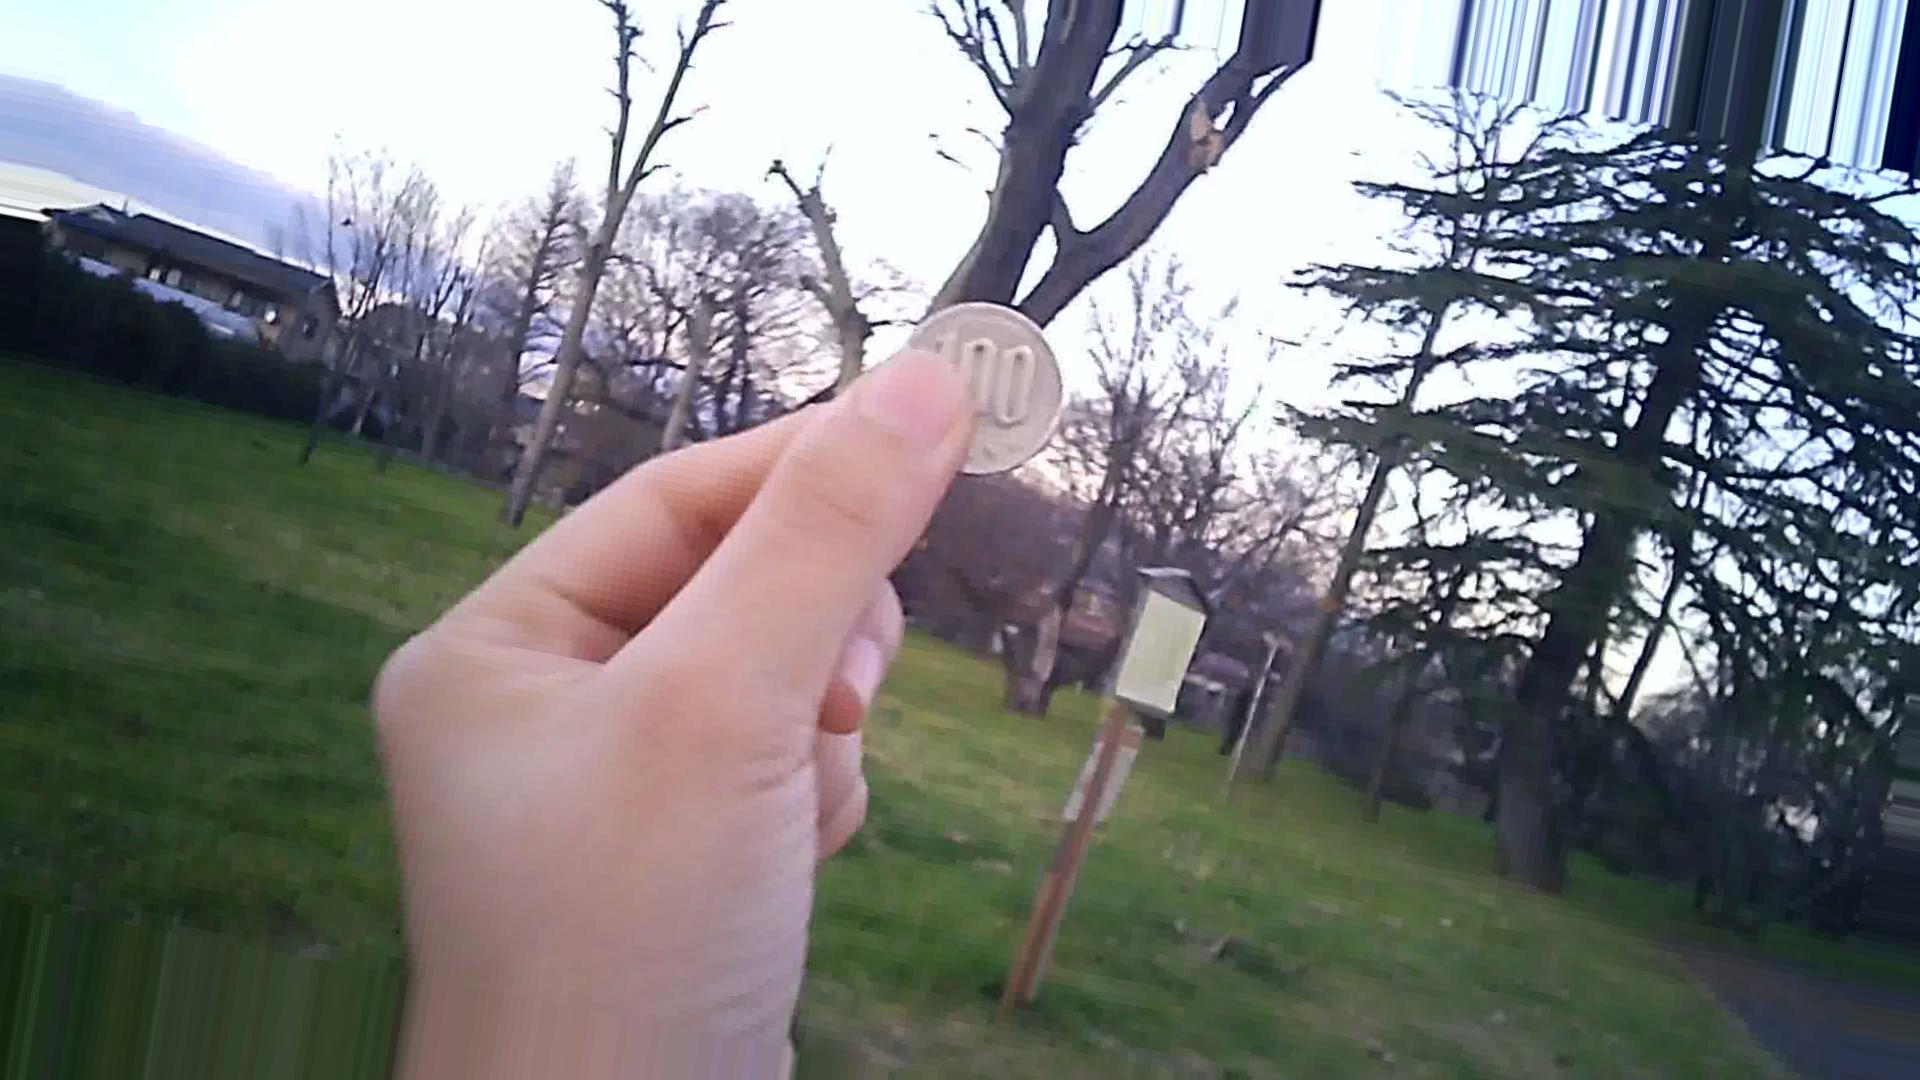100 Yen: (897, 302, 1069, 484)
